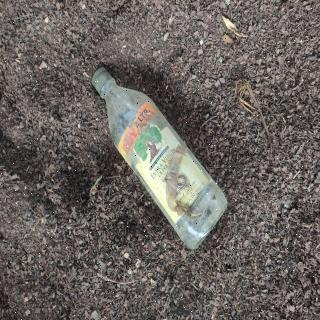Plastic-bottle: (90, 62, 231, 256)
